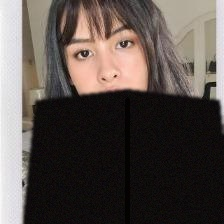Cadar_Niqab: (23, 0, 224, 224)
